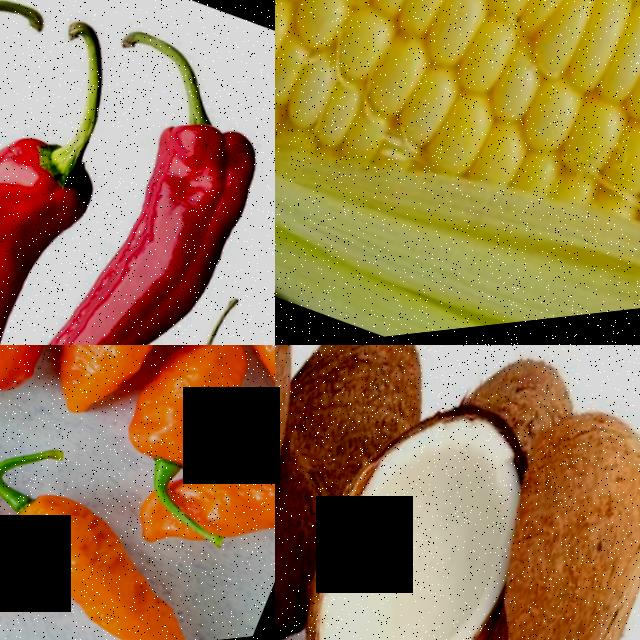chilli: (42, 80, 275, 345), (0, 106, 118, 345), (101, 345, 273, 506), (9, 345, 199, 453), (0, 345, 92, 439)
coconut: (275, 373, 574, 640), (403, 402, 640, 640), (275, 345, 361, 640)
corn: (275, 0, 640, 345)
